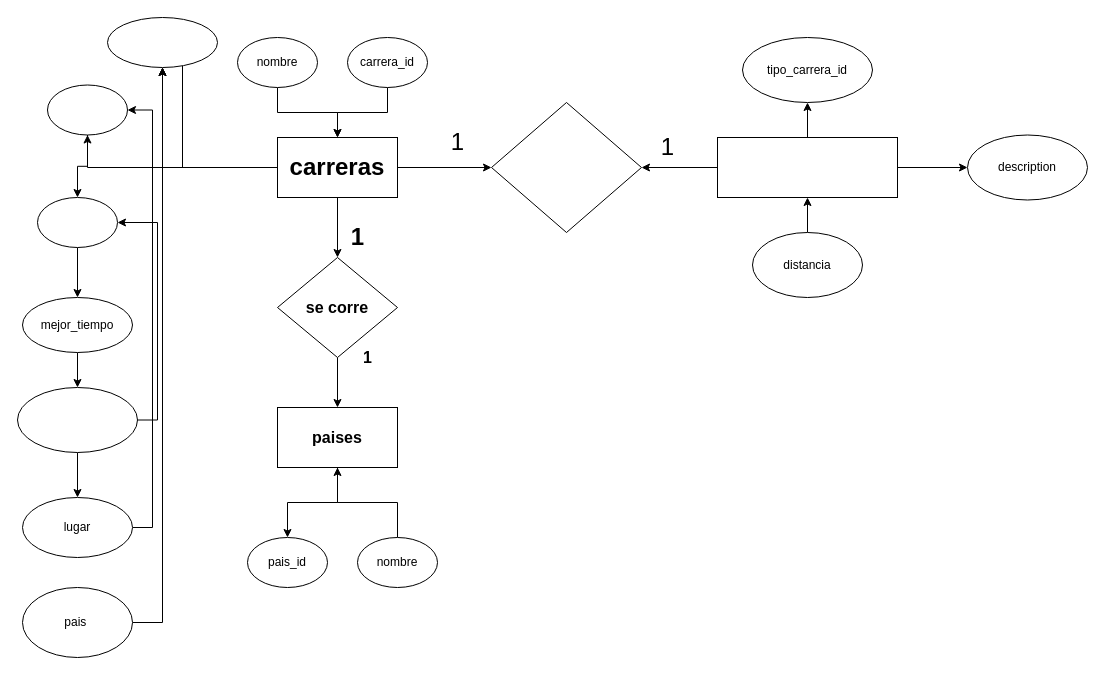
Image size: 1105x675. Some labels were removed from this diagram. The shapes that lost their labels are listed below. From the top down, each one's centre as x and y in pixels, then its label:
At point 162,42: "tipo_carrera".
At point 87,109: "fecha".
At point 566,167: "pertenece".
At point 807,167: "tipos_carrera".
At point 77,222: "tiempo".
At point 77,419: "altitud".
